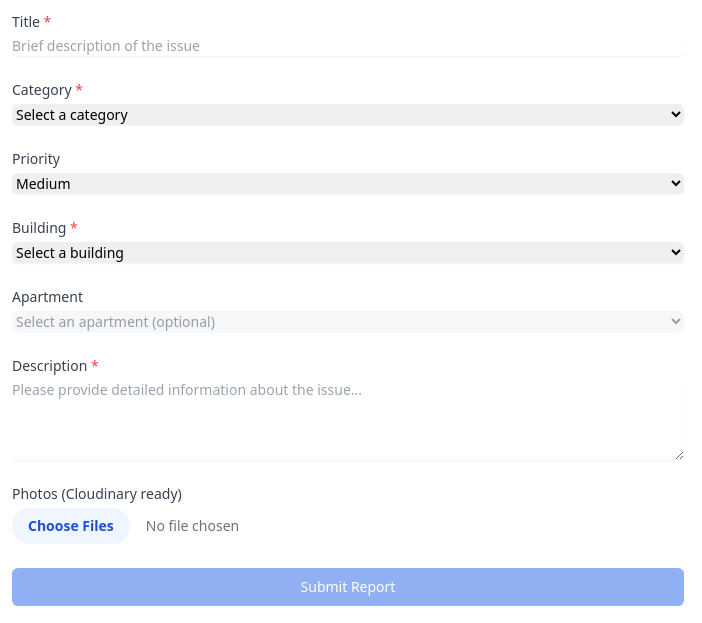
Test: ReportForm › enables submit button when all required fields are filled
In the field labelled "Title *": (348,46) [12, 36, 684, 56], type "Leaky faucet"
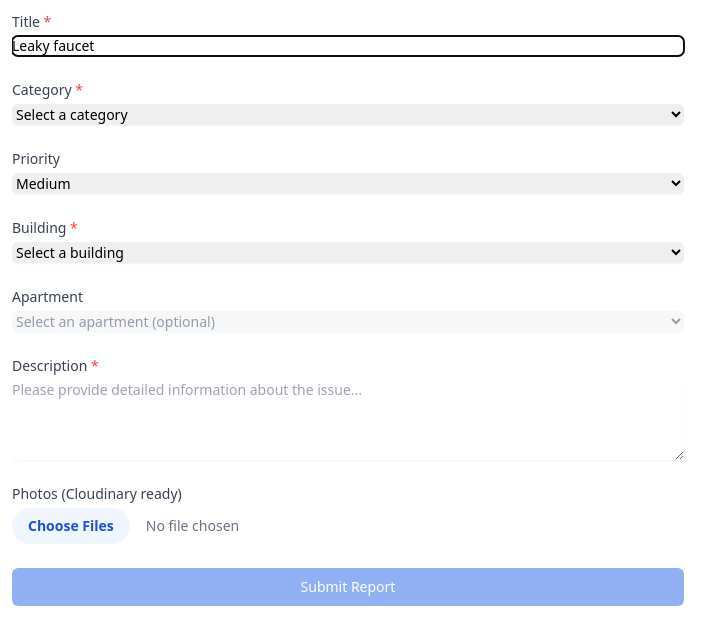
In the text box labelled "Description *": (348,420) [12, 380, 684, 460], type "Kitchen sink is leaking"
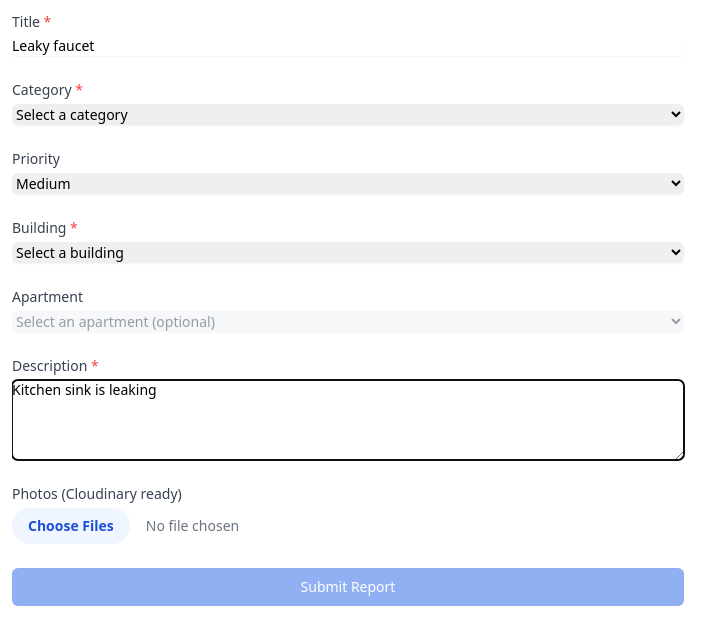
Select "Maintenance" in the dropdown labelled "Category *": (348,114) [12, 104, 684, 125]
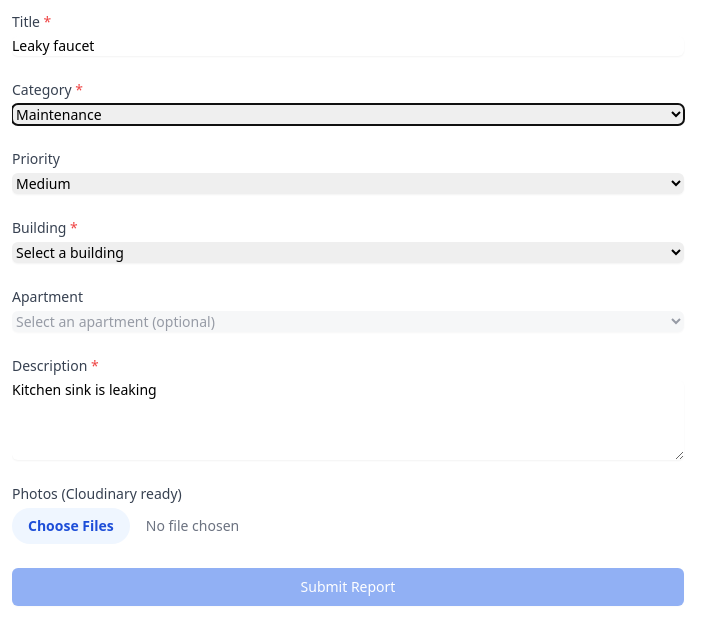
Select "Building A - 123 Main St" in the dropdown labelled "Building *": (348,252) [12, 242, 684, 263]
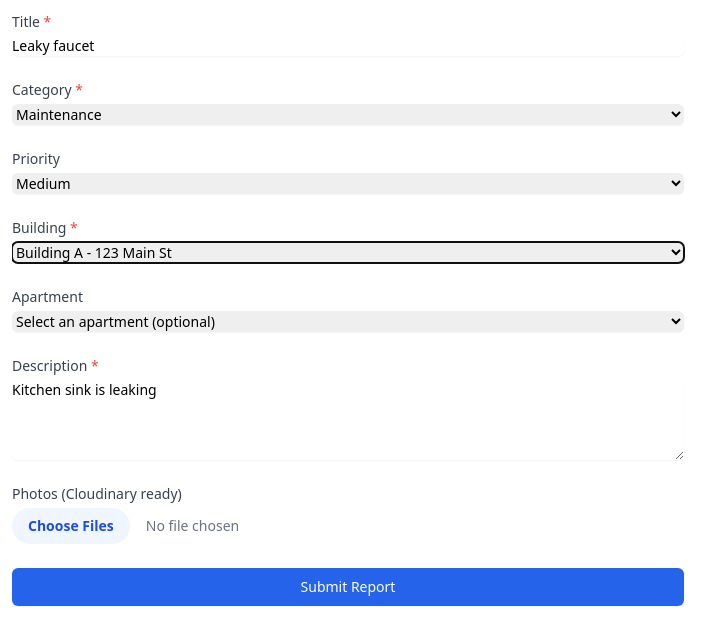
Expected: the button "Submit Report" is enabled, [12, 568, 684, 606]
